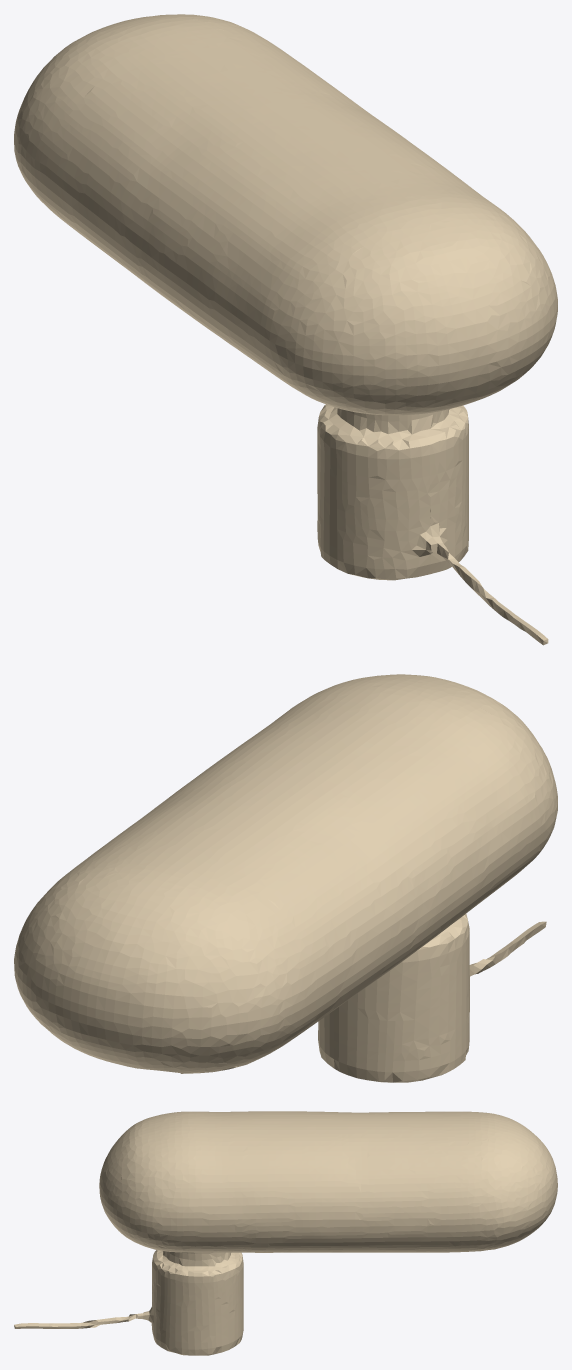
The model's file is skulptur-12.glb.
3 views of the same model, one above another, from view 1: azimuth 30°, elevation 25°; view 2: azimuth 150°, elevation 25°; view 3: azimuth 270°, elevation 25° (orthographic). The views are drawn at different scales.
Parts seen in each view (by area): view 1: skulptur-12; view 2: skulptur-12; view 3: skulptur-12.
Boxes of the visible parts, x1,y1,x2,y2 form: skulptur-12: (14,14,557,645); skulptur-12: (14,674,557,1082); skulptur-12: (14,1111,557,1355).
Bounding box in the file's own units: 0.3558 × 0.434 × 0.9965.
